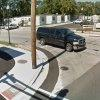Car: (38, 16, 93, 56)
